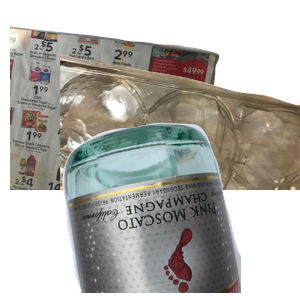glass: (60, 120, 300, 300)
paper: (10, 21, 222, 201)
plastic: (60, 52, 300, 232)
trash: (82, 151, 260, 300)
